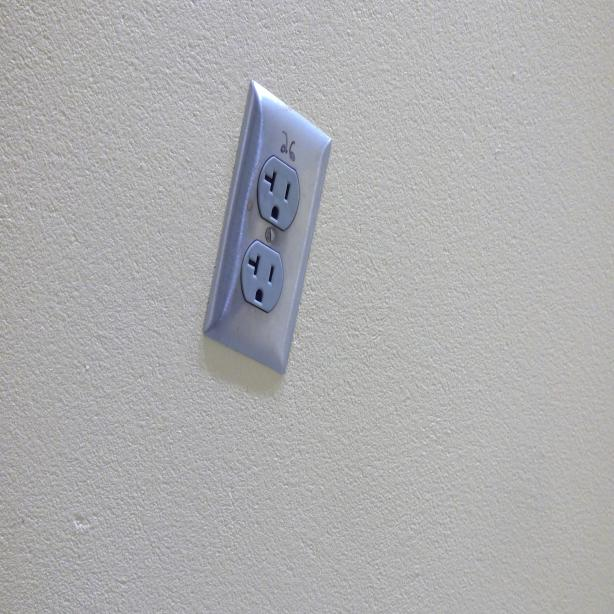typeb: (242, 242, 284, 315), (258, 158, 300, 225)
